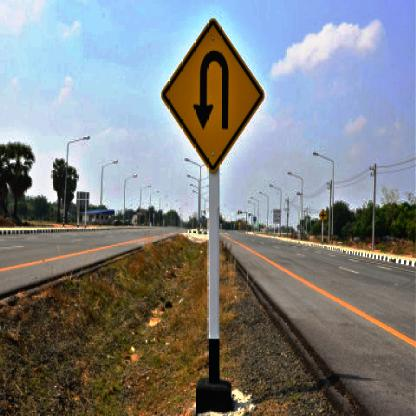U-turn: (158, 17, 266, 174)
